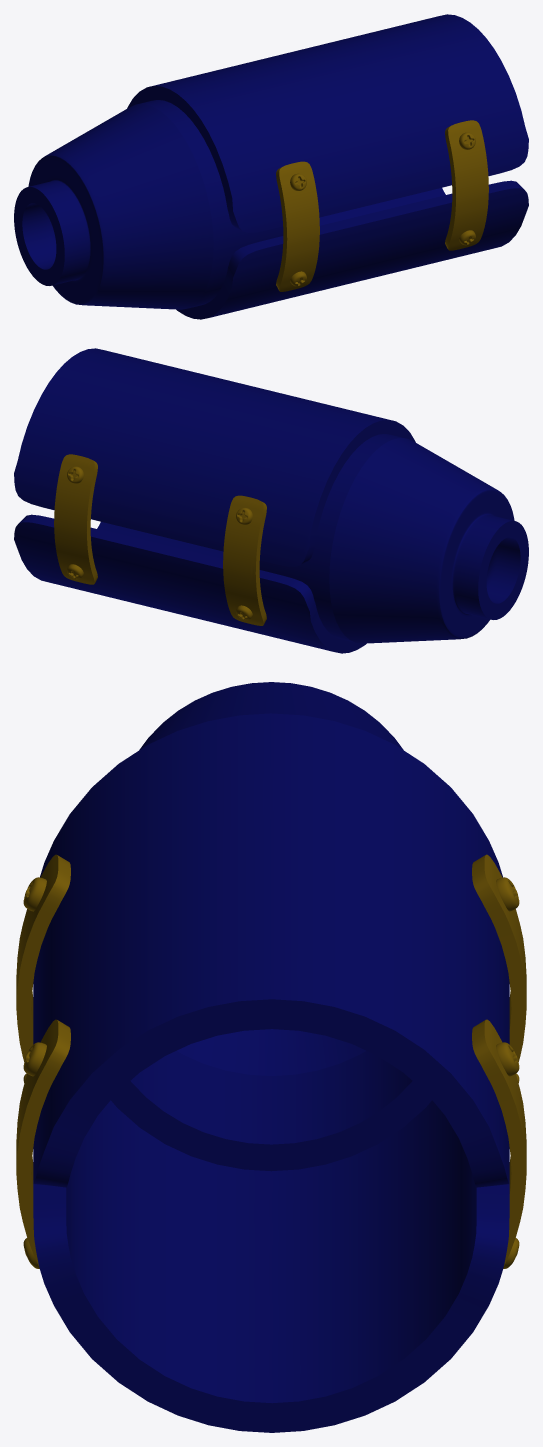
File: muzzle_06.fbx
3 renders of one model, top to bottom at view 1: azimuth 30°, elevation 25°; view 2: azimuth 150°, elevation 25°; view 3: azimuth 270°, elevation 25°, orthographic. The views are drawn at different scales.
Parts seen in each view (by area): view 1: Circle.159; view 2: Circle.159; view 3: Circle.159.
Boxes of the visible parts, x1,y1,x2,y2 form: Circle.159: (14,14,528,319); Circle.159: (14,348,528,653); Circle.159: (16,682,526,1432).
Size of the model in its own units: 27.2 by 13.02 by 13.89.
